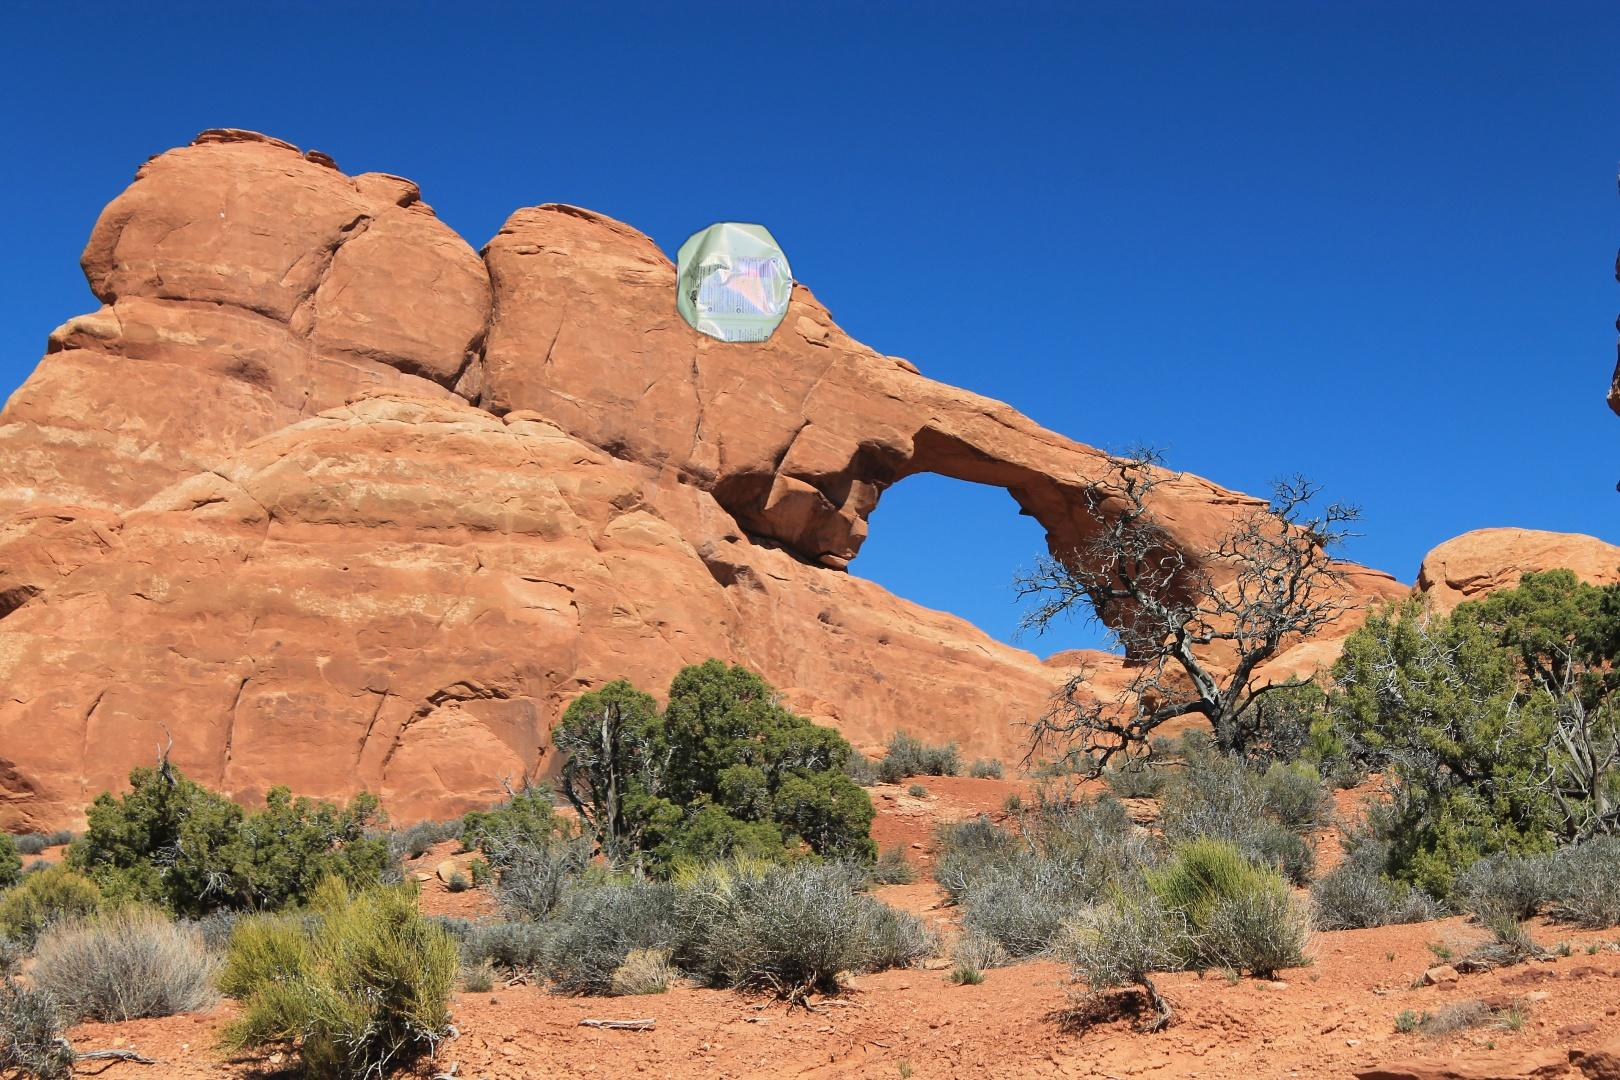metal-cans: (673, 216, 798, 350)
